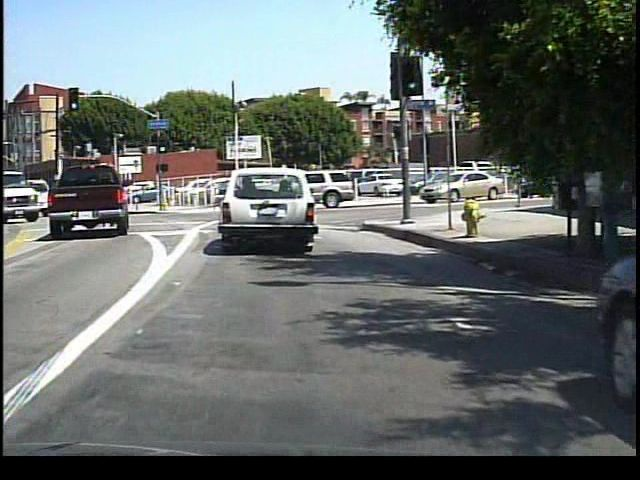person: (399, 164, 418, 203)
